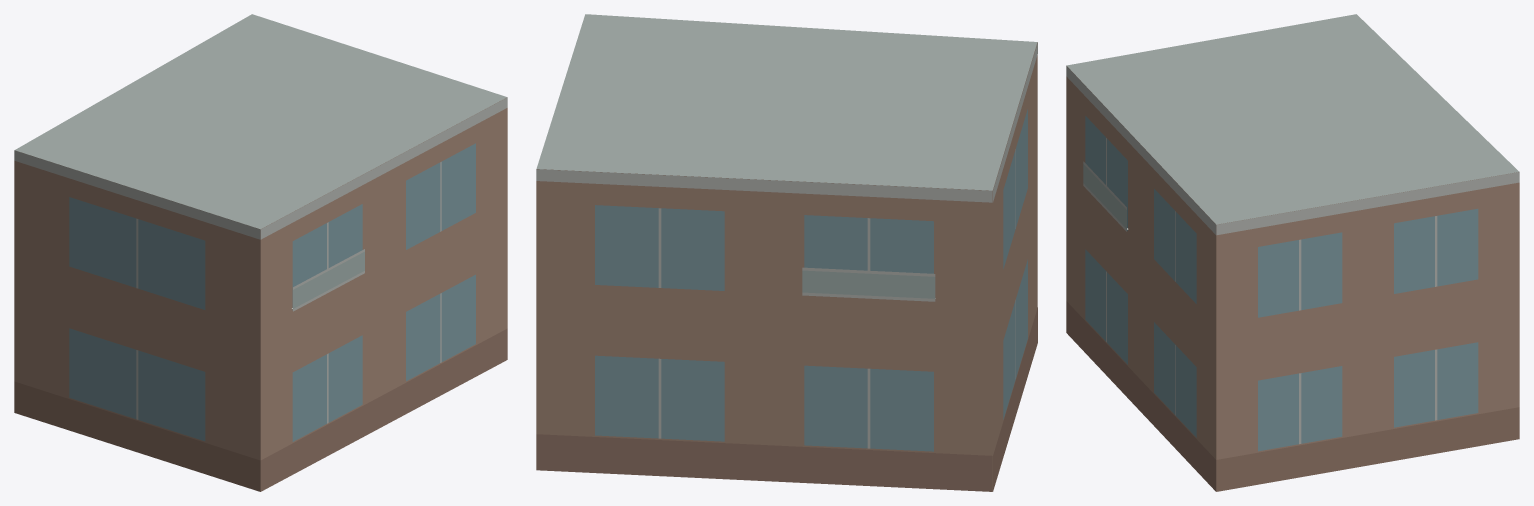
File: survey-upis-32905853.glb
3 views of the same model, side by side, from view 1: azimuth 30°, elevation 25°; view 2: azimuth 150°, elevation 25°; view 3: azimuth 270°, elevation 25° (orthographic). The views are drawn at different scales.
Parts seen in each view (by area): view 1: survey-upis-32905853.tmp; view 2: survey-upis-32905853.tmp; view 3: survey-upis-32905853.tmp.
Boxes of the visible parts, box(x1,y1,x2,y2) form: survey-upis-32905853.tmp: box(14, 14, 507, 491); survey-upis-32905853.tmp: box(536, 14, 1037, 491); survey-upis-32905853.tmp: box(1066, 14, 1519, 491).
Bounding box in the file's own units: 10.32 × 6.1 × 9.39.
